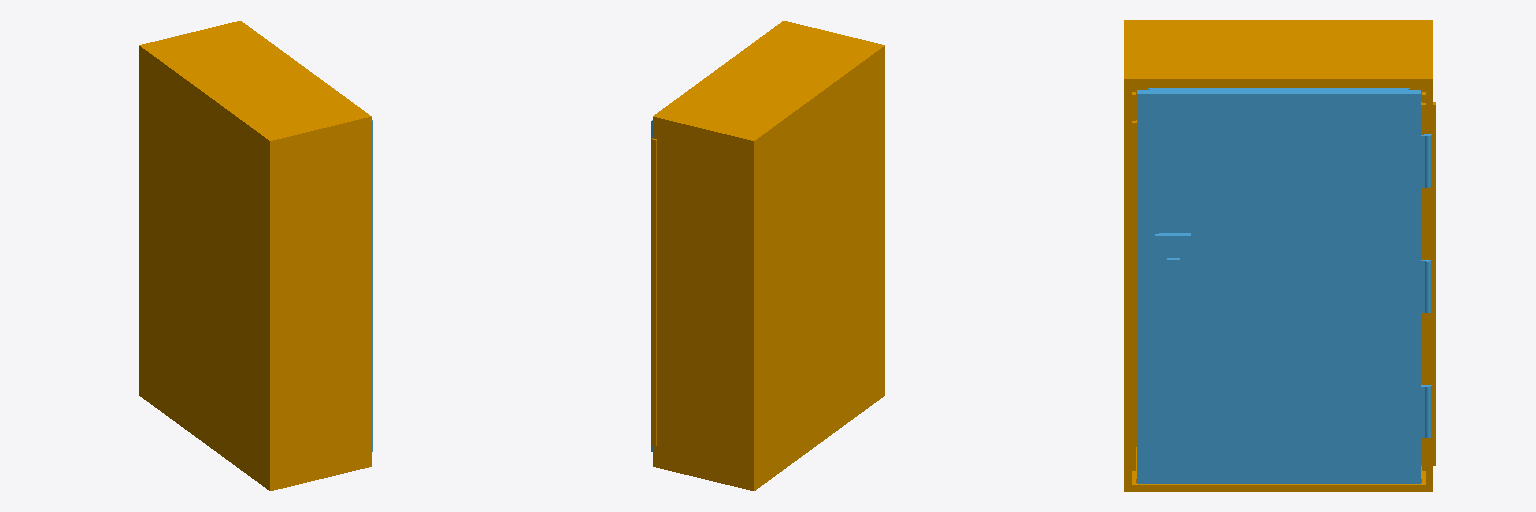
The robot description file, URDF, robot "industrial_electrical_cabinet":
<robot name="industrial_electrical_cabinet">
  <link name="cabinet">
    <inertial>
      <mass value="88" />
      <inertia ixx="13.4347" ixy="0" ixz="0" iyy="10.0467" iyz="0" izz="5.08347" />
      </inertial>
    <visual>
      <origin xyz="-0.1685 0 0" rpy="0 0 0" />
      <geometry>
        <box size="0.003 0.76 1.12" />
        </geometry>
      </visual>
    <visual>
      <origin xyz="0.0015 -0.371 0" rpy="0 0 0" />
      <geometry>
        <box size="0.337 0.018 1.12" />
        </geometry>
      </visual>
    <visual>
      <origin xyz="0.0015 0.371 0" rpy="0 0 0" />
      <geometry>
        <box size="0.337 0.018 1.12" />
        </geometry>
      </visual>
    <visual>
      <origin xyz="0.0015 0 -0.551" rpy="0 0 0" />
      <geometry>
        <box size="0.337 0.724 0.018" />
        </geometry>
      </visual>
    <visual>
      <origin xyz="0.0015 0 0.551" rpy="0 0 0" />
      <geometry>
        <box size="0.337 0.724 0.018" />
        </geometry>
      </visual>
    <visual>
      <origin xyz="0.148 -0.366 0" rpy="0 0 0" />
      <geometry>
        <box size="0.02 0.028 1.02" />
        </geometry>
      </visual>
    <visual>
      <origin xyz="0.148 0.366 0" rpy="0 0 0" />
      <geometry>
        <box size="0.02 0.028 1.02" />
        </geometry>
      </visual>
    <visual>
      <origin xyz="0.148 0 -0.546" rpy="0 0 0" />
      <geometry>
        <box size="0.02 0.704 0.028" />
        </geometry>
      </visual>
    <visual>
      <origin xyz="0.148 0 0.546" rpy="0 0 0" />
      <geometry>
        <box size="0.02 0.704 0.028" />
        </geometry>
      </visual>
    <visual>
      <origin xyz="-0.115 0 0" rpy="0 0 0" />
      <geometry>
        <box size="0.003 0.62 0.94" />
        </geometry>
      </visual>
    <visual>
      <origin xyz="-0.141 -0.25 -0.38" rpy="0 0 0" />
      <geometry>
        <box size="0.052 0.026 0.026" />
        </geometry>
      </visual>
    <visual>
      <origin xyz="-0.141 -0.25 0.38" rpy="0 0 0" />
      <geometry>
        <box size="0.052 0.026 0.026" />
        </geometry>
      </visual>
    <visual>
      <origin xyz="-0.141 0.25 -0.38" rpy="0 0 0" />
      <geometry>
        <box size="0.052 0.026 0.026" />
        </geometry>
      </visual>
    <visual>
      <origin xyz="-0.141 0.25 0.38" rpy="0 0 0" />
      <geometry>
        <box size="0.052 0.026 0.026" />
        </geometry>
      </visual>
    <visual>
      <origin xyz="-0.14 0 -0.545" rpy="0 0 0" />
      <geometry>
        <box size="0.06 0.68 0.03" />
        </geometry>
      </visual>
    <visual>
      <origin xyz="0.162 -0.36 0" rpy="0 0 0" />
      <geometry>
        <box size="0.016 0.04 0.88" />
        </geometry>
      </visual>
    <visual>
      <origin xyz="0.163 0.366 0" rpy="0 0 0" />
      <geometry>
        <box size="0.016 0.04 0.98" />
        </geometry>
      </visual>
    <visual>
      <origin xyz="0.162 0.365 -0.34" rpy="0 0 0" />
      <geometry>
        <box size="0.01 0.022 0.12" />
        </geometry>
      </visual>
    <visual>
      <origin xyz="0.162 0.365 0" rpy="0 0 0" />
      <geometry>
        <box size="0.01 0.022 0.12" />
        </geometry>
      </visual>
    <visual>
      <origin xyz="0.162 0.365 0.34" rpy="0 0 0" />
      <geometry>
        <box size="0.01 0.022 0.12" />
        </geometry>
      </visual>
    <collision name="cabinet__visual_1">
      <origin xyz="-0.1685 0 0" rpy="0 0 0" />
      <geometry>
        <box size="0.003 0.76 1.12" />
        </geometry>
      </collision>
    <collision name="cabinet__visual_2">
      <origin xyz="0.0015 -0.371 0" rpy="0 0 0" />
      <geometry>
        <box size="0.337 0.018 1.12" />
        </geometry>
      </collision>
    <collision name="cabinet__visual_3">
      <origin xyz="0.0015 0.371 0" rpy="0 0 0" />
      <geometry>
        <box size="0.337 0.018 1.12" />
        </geometry>
      </collision>
    <collision name="cabinet__visual_4">
      <origin xyz="0.0015 0 -0.551" rpy="0 0 0" />
      <geometry>
        <box size="0.337 0.724 0.018" />
        </geometry>
      </collision>
    <collision name="cabinet__visual_5">
      <origin xyz="0.0015 0 0.551" rpy="0 0 0" />
      <geometry>
        <box size="0.337 0.724 0.018" />
        </geometry>
      </collision>
    <collision name="cabinet__visual_6">
      <origin xyz="0.148 -0.366 0" rpy="0 0 0" />
      <geometry>
        <box size="0.02 0.028 1.02" />
        </geometry>
      </collision>
    <collision name="cabinet__visual_7">
      <origin xyz="0.148 0.366 0" rpy="0 0 0" />
      <geometry>
        <box size="0.02 0.028 1.02" />
        </geometry>
      </collision>
    <collision name="cabinet__visual_8">
      <origin xyz="0.148 0 -0.546" rpy="0 0 0" />
      <geometry>
        <box size="0.02 0.704 0.028" />
        </geometry>
      </collision>
    <collision name="cabinet__visual_9">
      <origin xyz="0.148 0 0.546" rpy="0 0 0" />
      <geometry>
        <box size="0.02 0.704 0.028" />
        </geometry>
      </collision>
    <collision name="cabinet__visual_10">
      <origin xyz="-0.115 0 0" rpy="0 0 0" />
      <geometry>
        <box size="0.003 0.62 0.94" />
        </geometry>
      </collision>
    <collision name="cabinet__visual_11">
      <origin xyz="-0.141 -0.25 -0.38" rpy="0 0 0" />
      <geometry>
        <box size="0.052 0.026 0.026" />
        </geometry>
      </collision>
    <collision name="cabinet__visual_12">
      <origin xyz="-0.141 -0.25 0.38" rpy="0 0 0" />
      <geometry>
        <box size="0.052 0.026 0.026" />
        </geometry>
      </collision>
    <collision name="cabinet__visual_13">
      <origin xyz="-0.141 0.25 -0.38" rpy="0 0 0" />
      <geometry>
        <box size="0.052 0.026 0.026" />
        </geometry>
      </collision>
    <collision name="cabinet__visual_14">
      <origin xyz="-0.141 0.25 0.38" rpy="0 0 0" />
      <geometry>
        <box size="0.052 0.026 0.026" />
        </geometry>
      </collision>
    <collision name="cabinet__visual_15">
      <origin xyz="-0.14 0 -0.545" rpy="0 0 0" />
      <geometry>
        <box size="0.06 0.68 0.03" />
        </geometry>
      </collision>
    <collision name="cabinet__visual_16">
      <origin xyz="0.162 -0.36 0" rpy="0 0 0" />
      <geometry>
        <box size="0.016 0.04 0.88" />
        </geometry>
      </collision>
    <collision name="cabinet__visual_17">
      <origin xyz="0.163 0.366 0" rpy="0 0 0" />
      <geometry>
        <box size="0.016 0.04 0.98" />
        </geometry>
      </collision>
    <collision name="cabinet__visual_18">
      <origin xyz="0.162 0.365 -0.34" rpy="0 0 0" />
      <geometry>
        <box size="0.01 0.022 0.12" />
        </geometry>
      </collision>
    <collision name="cabinet__visual_19">
      <origin xyz="0.162 0.365 0" rpy="0 0 0" />
      <geometry>
        <box size="0.01 0.022 0.12" />
        </geometry>
      </collision>
    <collision name="cabinet__visual_20">
      <origin xyz="0.162 0.365 0.34" rpy="0 0 0" />
      <geometry>
        <box size="0.01 0.022 0.12" />
        </geometry>
      </collision>
    </link>
  <link name="door">
    <inertial>
      <origin xyz="0.01 -0.366 0" rpy="0 0 0" />
      <mass value="24" />
      <inertia ixx="3.2272" ixy="0" ixz="0" iyy="2.2522" iyz="0" izz="0.985" />
      </inertial>
    <visual>
      <origin xyz="0.008 -0.366 0" rpy="0 0 0" />
      <geometry>
        <box size="0.018 0.7 1.06" />
        </geometry>
      </visual>
    <visual>
      <origin xyz="0.014 -0.366 -0.5" rpy="0 0 0" />
      <geometry>
        <box size="0.008 0.7 0.06" />
        </geometry>
      </visual>
    <visual>
      <origin xyz="0.014 -0.366 0.5" rpy="0 0 0" />
      <geometry>
        <box size="0.008 0.7 0.06" />
        </geometry>
      </visual>
    <visual>
      <origin xyz="0.014 -0.0435 0" rpy="0 0 0" />
      <geometry>
        <box size="0.008 0.055 0.94" />
        </geometry>
      </visual>
    <visual>
      <origin xyz="0.014 -0.6885 0" rpy="0 0 0" />
      <geometry>
        <box size="0.008 0.055 0.94" />
        </geometry>
      </visual>
    <visual>
      <origin xyz="0.009 -0.366 0" rpy="0 0 0" />
      <geometry>
        <box size="0.01 0.52 0.88" />
        </geometry>
      </visual>
    <visual>
      <origin xyz="0.001 -0.032 0" rpy="0 0 0" />
      <geometry>
        <box size="0.028 0.032 0.98" />
        </geometry>
      </visual>
    <visual>
      <origin xyz="0.001 -0.7 0" rpy="0 0 0" />
      <geometry>
        <box size="0.028 0.032 0.98" />
        </geometry>
      </visual>
    <visual>
      <origin xyz="0.001 -0.366 -0.514" rpy="0 0 0" />
      <geometry>
        <box size="0.028 0.636 0.032" />
        </geometry>
      </visual>
    <visual>
      <origin xyz="0.001 -0.366 0.514" rpy="0 0 0" />
      <geometry>
        <box size="0.028 0.636 0.032" />
        </geometry>
      </visual>
    <visual>
      <origin xyz="0 -0.206 0" rpy="0 0 0" />
      <geometry>
        <box size="0.014 0.04 0.72" />
        </geometry>
      </visual>
    <visual>
      <origin xyz="0 -0.526 0" rpy="0 0 0" />
      <geometry>
        <box size="0.014 0.04 0.72" />
        </geometry>
      </visual>
    <visual>
      <origin xyz="0 -0.626 0" rpy="0 0 0" />
      <geometry>
        <box size="0.016 0.05 0.26" />
        </geometry>
      </visual>
    <visual>
      <origin xyz="0 -0.626 0.29" rpy="0 0 0" />
      <geometry>
        <cylinder radius="0.006" length="0.36" />
        </geometry>
      </visual>
    <visual>
      <origin xyz="0 -0.626 -0.29" rpy="0 0 0" />
      <geometry>
        <cylinder radius="0.006" length="0.36" />
        </geometry>
      </visual>
    <visual>
      <origin xyz="0.001 -0.626 0.11" rpy="0 0 0" />
      <geometry>
        <box size="0.018 0.038 0.02" />
        </geometry>
      </visual>
    <visual>
      <origin xyz="0.001 -0.626 -0.11" rpy="0 0 0" />
      <geometry>
        <box size="0.018 0.038 0.02" />
        </geometry>
      </visual>
    <visual>
      <origin xyz="0.001 -0.626 0.47" rpy="0 0 0" />
      <geometry>
        <box size="0.018 0.038 0.02" />
        </geometry>
      </visual>
    <visual>
      <origin xyz="0.001 -0.626 -0.47" rpy="0 0 0" />
      <geometry>
        <box size="0.018 0.038 0.02" />
        </geometry>
      </visual>
    <visual>
      <origin xyz="0.022 -0.626 0" rpy="0 0 0" />
      <geometry>
        <box size="0.02 0.09 0.3" />
        </geometry>
      </visual>
    <visual>
      <origin xyz="0.021 -0.626 0" rpy="0 1.5708 0" />
      <geometry>
        <cylinder radius="0.015" length="0.018" />
        </geometry>
      </visual>
    <visual>
      <origin xyz="0.034 -0.626 0" rpy="0 0 0" />
      <geometry>
        <box size="0.024 0.032 0.18" />
        </geometry>
      </visual>
    <visual>
      <origin xyz="0.041 -0.626 -0.04" rpy="0 0 0" />
      <geometry>
        <box size="0.01 0.032 0.1" />
        </geometry>
      </visual>
    <visual>
      <origin xyz="0.018 -0.276 0.41" rpy="0 0 0" />
      <geometry>
        <box size="0.004 0.18 0.07" />
        </geometry>
      </visual>
    <visual>
      <origin xyz="-0.01 -0.03 0" rpy="0 0 0" />
      <geometry>
        <box size="0.004 0.028 0.94" />
        </geometry>
      </visual>
    <visual>
      <origin xyz="-0.01 -0.702 0" rpy="0 0 0" />
      <geometry>
        <box size="0.004 0.028 0.94" />
        </geometry>
      </visual>
    <visual>
      <origin xyz="-0.01 -0.366 -0.516" rpy="0 0 0" />
      <geometry>
        <box size="0.004 0.644 0.028" />
        </geometry>
      </visual>
    <visual>
      <origin xyz="-0.01 -0.366 0.516" rpy="0 0 0" />
      <geometry>
        <box size="0.004 0.644 0.028" />
        </geometry>
      </visual>
    <visual>
      <origin xyz="0 0 -0.34" rpy="0 0 0" />
      <geometry>
        <cylinder radius="0.01" length="0.14" />
        </geometry>
      </visual>
    <visual>
      <origin xyz="0.004 -0.008 -0.34" rpy="0 0 0" />
      <geometry>
        <box size="0.008 0.02 0.14" />
        </geometry>
      </visual>
    <visual>
      <geometry>
        <cylinder radius="0.01" length="0.14" />
        </geometry>
      </visual>
    <visual>
      <origin xyz="0.004 -0.008 0" rpy="0 0 0" />
      <geometry>
        <box size="0.008 0.02 0.14" />
        </geometry>
      </visual>
    <visual>
      <origin xyz="0 0 0.34" rpy="0 0 0" />
      <geometry>
        <cylinder radius="0.01" length="0.14" />
        </geometry>
      </visual>
    <visual>
      <origin xyz="0.004 -0.008 0.34" rpy="0 0 0" />
      <geometry>
        <box size="0.008 0.02 0.14" />
        </geometry>
      </visual>
    <collision name="door__visual_1">
      <origin xyz="0.008 -0.366 0" rpy="0 0 0" />
      <geometry>
        <box size="0.018 0.7 1.06" />
        </geometry>
      </collision>
    <collision name="door__visual_2">
      <origin xyz="0.014 -0.366 -0.5" rpy="0 0 0" />
      <geometry>
        <box size="0.008 0.7 0.06" />
        </geometry>
      </collision>
    <collision name="door__visual_3">
      <origin xyz="0.014 -0.366 0.5" rpy="0 0 0" />
      <geometry>
        <box size="0.008 0.7 0.06" />
        </geometry>
      </collision>
    <collision name="door__visual_4">
      <origin xyz="0.014 -0.0435 0" rpy="0 0 0" />
      <geometry>
        <box size="0.008 0.055 0.94" />
        </geometry>
      </collision>
    <collision name="door__visual_5">
      <origin xyz="0.014 -0.6885 0" rpy="0 0 0" />
      <geometry>
        <box size="0.008 0.055 0.94" />
        </geometry>
      </collision>
    <collision name="door__visual_6">
      <origin xyz="0.009 -0.366 0" rpy="0 0 0" />
      <geometry>
        <box size="0.01 0.52 0.88" />
        </geometry>
      </collision>
    <collision name="door__visual_7">
      <origin xyz="0.001 -0.032 0" rpy="0 0 0" />
      <geometry>
        <box size="0.028 0.032 0.98" />
        </geometry>
      </collision>
    <collision name="door__visual_8">
      <origin xyz="0.001 -0.7 0" rpy="0 0 0" />
      <geometry>
        <box size="0.028 0.032 0.98" />
        </geometry>
      </collision>
    <collision name="door__visual_9">
      <origin xyz="0.001 -0.366 -0.514" rpy="0 0 0" />
      <geometry>
        <box size="0.028 0.636 0.032" />
        </geometry>
      </collision>
    <collision name="door__visual_10">
      <origin xyz="0.001 -0.366 0.514" rpy="0 0 0" />
      <geometry>
        <box size="0.028 0.636 0.032" />
        </geometry>
      </collision>
    <collision name="door__visual_11">
      <origin xyz="0 -0.206 0" rpy="0 0 0" />
      <geometry>
        <box size="0.014 0.04 0.72" />
        </geometry>
      </collision>
    <collision name="door__visual_12">
      <origin xyz="0 -0.526 0" rpy="0 0 0" />
      <geometry>
        <box size="0.014 0.04 0.72" />
        </geometry>
      </collision>
    <collision name="door__visual_13">
      <origin xyz="0 -0.626 0" rpy="0 0 0" />
      <geometry>
        <box size="0.016 0.05 0.26" />
        </geometry>
      </collision>
    <collision name="door__visual_14">
      <origin xyz="0 -0.626 0.29" rpy="0 0 0" />
      <geometry>
        <cylinder radius="0.006" length="0.36" />
        </geometry>
      </collision>
    <collision name="door__visual_15">
      <origin xyz="0 -0.626 -0.29" rpy="0 0 0" />
      <geometry>
        <cylinder radius="0.006" length="0.36" />
        </geometry>
      </collision>
    <collision name="door__visual_16">
      <origin xyz="0.001 -0.626 0.11" rpy="0 0 0" />
      <geometry>
        <box size="0.018 0.038 0.02" />
        </geometry>
      </collision>
    <collision name="door__visual_17">
      <origin xyz="0.001 -0.626 -0.11" rpy="0 0 0" />
      <geometry>
        <box size="0.018 0.038 0.02" />
        </geometry>
      </collision>
    <collision name="door__visual_18">
      <origin xyz="0.001 -0.626 0.47" rpy="0 0 0" />
      <geometry>
        <box size="0.018 0.038 0.02" />
        </geometry>
      </collision>
    <collision name="door__visual_19">
      <origin xyz="0.001 -0.626 -0.47" rpy="0 0 0" />
      <geometry>
        <box size="0.018 0.038 0.02" />
        </geometry>
      </collision>
    <collision name="door__visual_20">
      <origin xyz="0.022 -0.626 0" rpy="0 0 0" />
      <geometry>
        <box size="0.02 0.09 0.3" />
        </geometry>
      </collision>
    <collision name="door__visual_21">
      <origin xyz="0.021 -0.626 0" rpy="0 1.5708 0" />
      <geometry>
        <cylinder radius="0.015" length="0.018" />
        </geometry>
      </collision>
    <collision name="door__visual_22">
      <origin xyz="0.034 -0.626 0" rpy="0 0 0" />
      <geometry>
        <box size="0.024 0.032 0.18" />
        </geometry>
      </collision>
    <collision name="door__visual_23">
      <origin xyz="0.041 -0.626 -0.04" rpy="0 0 0" />
      <geometry>
        <box size="0.01 0.032 0.1" />
        </geometry>
      </collision>
    <collision name="door__visual_24">
      <origin xyz="0.018 -0.276 0.41" rpy="0 0 0" />
      <geometry>
        <box size="0.004 0.18 0.07" />
        </geometry>
      </collision>
    <collision name="door__visual_25">
      <origin xyz="-0.01 -0.03 0" rpy="0 0 0" />
      <geometry>
        <box size="0.004 0.028 0.94" />
        </geometry>
      </collision>
    <collision name="door__visual_26">
      <origin xyz="-0.01 -0.702 0" rpy="0 0 0" />
      <geometry>
        <box size="0.004 0.028 0.94" />
        </geometry>
      </collision>
    <collision name="door__visual_27">
      <origin xyz="-0.01 -0.366 -0.516" rpy="0 0 0" />
      <geometry>
        <box size="0.004 0.644 0.028" />
        </geometry>
      </collision>
    <collision name="door__visual_28">
      <origin xyz="-0.01 -0.366 0.516" rpy="0 0 0" />
      <geometry>
        <box size="0.004 0.644 0.028" />
        </geometry>
      </collision>
    <collision name="door__visual_29">
      <origin xyz="0 0 -0.34" rpy="0 0 0" />
      <geometry>
        <cylinder radius="0.01" length="0.14" />
        </geometry>
      </collision>
    <collision name="door__visual_30">
      <origin xyz="0.004 -0.008 -0.34" rpy="0 0 0" />
      <geometry>
        <box size="0.008 0.02 0.14" />
        </geometry>
      </collision>
    <collision name="door__visual_31">
      <geometry>
        <cylinder radius="0.01" length="0.14" />
        </geometry>
      </collision>
    <collision name="door__visual_32">
      <origin xyz="0.004 -0.008 0" rpy="0 0 0" />
      <geometry>
        <box size="0.008 0.02 0.14" />
        </geometry>
      </collision>
    <collision name="door__visual_33">
      <origin xyz="0 0 0.34" rpy="0 0 0" />
      <geometry>
        <cylinder radius="0.01" length="0.14" />
        </geometry>
      </collision>
    <collision name="door__visual_34">
      <origin xyz="0.004 -0.008 0.34" rpy="0 0 0" />
      <geometry>
        <box size="0.008 0.02 0.14" />
        </geometry>
      </collision>
    </link>
  <joint name="door_hinge" type="revolute">
    <origin xyz="0.173 0.366 0" rpy="0 0 0" />
    <parent link="cabinet" />
    <child link="door" />
    <axis xyz="0 0 1" />
    <limit effort="90" velocity="1.2" lower="0" upper="2.1" />
    </joint>
  </robot>

--- What the picture shows (computed from the rendered views, not written in the file) ---
3 views of the same robot in one strip: view 1: azimuth 30°, elevation 25°; view 2: azimuth 150°, elevation 25°; view 3: azimuth 270°, elevation 25° (orthographic).
Model industrial_electrical_cabinet with 2 links and 1 joints (1 revolute), rooted at cabinet, posed all joints at 0.
Links seen in each view (by area): view 1: cabinet; view 2: cabinet; view 3: door, cabinet.
Boxes of the visible links, <box> form: cabinet: <box>139,21,371,490</box>; cabinet: <box>651,21,884,490</box>; door: <box>1137,88,1431,483</box>; cabinet: <box>1124,20,1435,491</box>.
Size in the robot's own frame: 0.389 by 0.766 by 1.12 metres.
Geometry: primitives only (box / cylinder / sphere), no mesh files.
